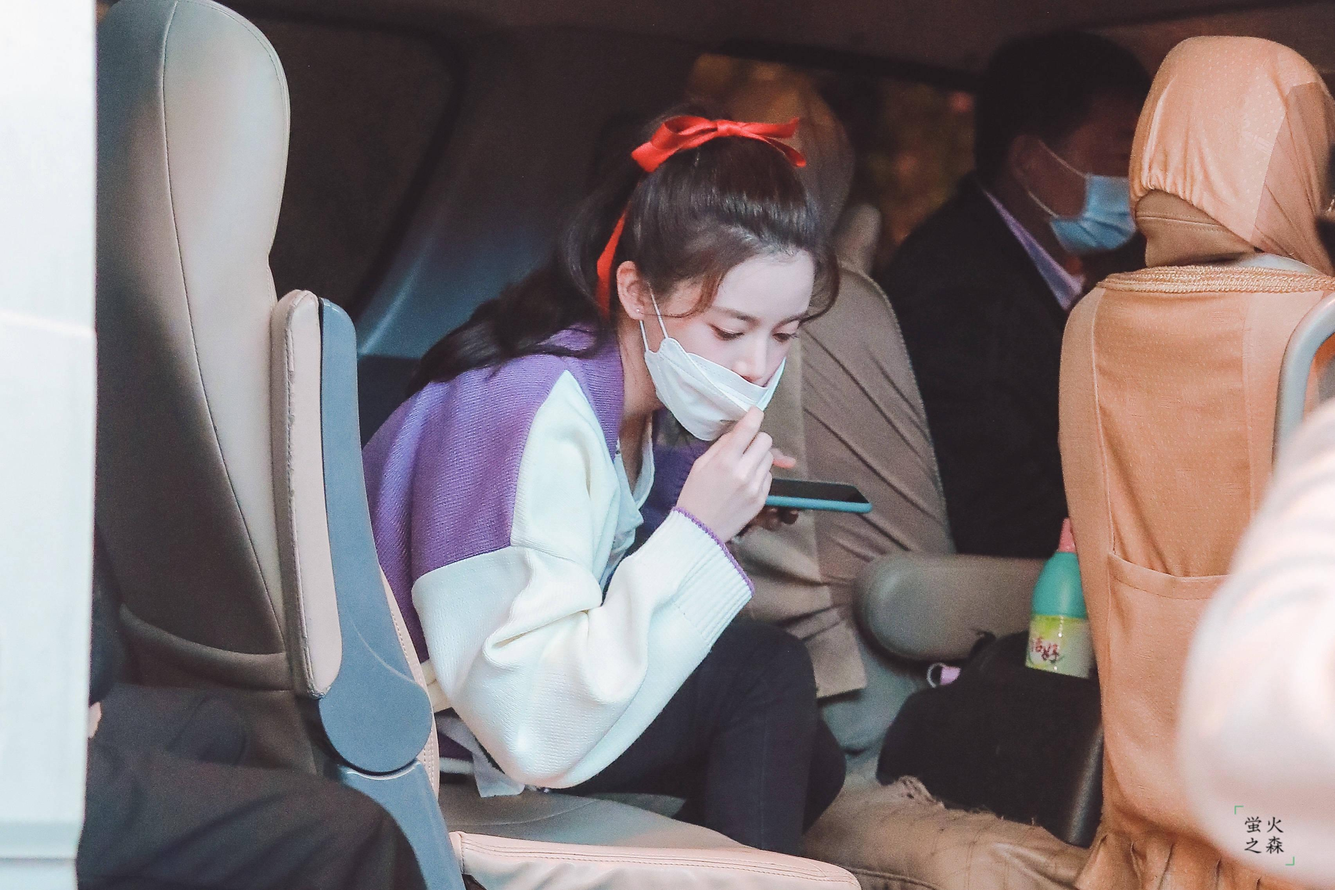OK: (1040, 108, 1153, 252)
WRONG: (657, 286, 806, 449)
